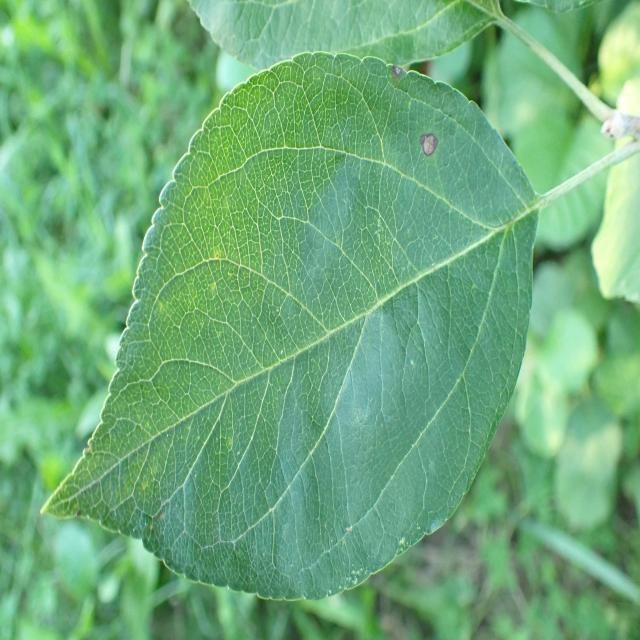Black Rot: (382, 43, 410, 103), (413, 119, 444, 170)
